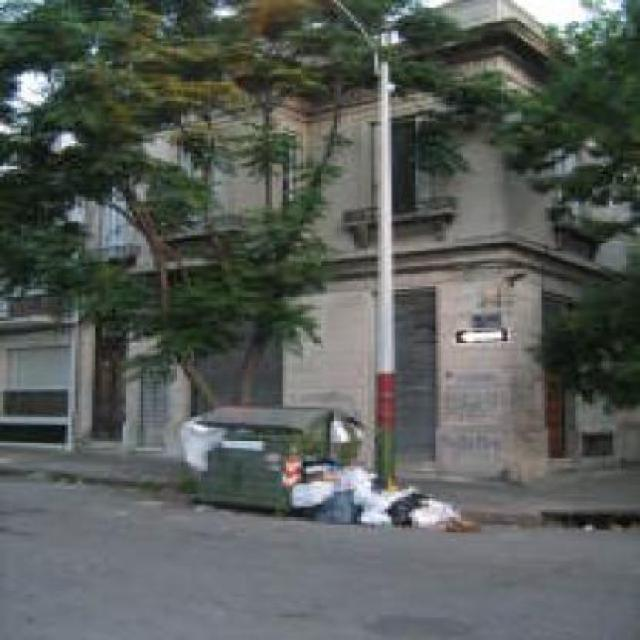garbage: (280, 454, 471, 531), (174, 415, 218, 477)
